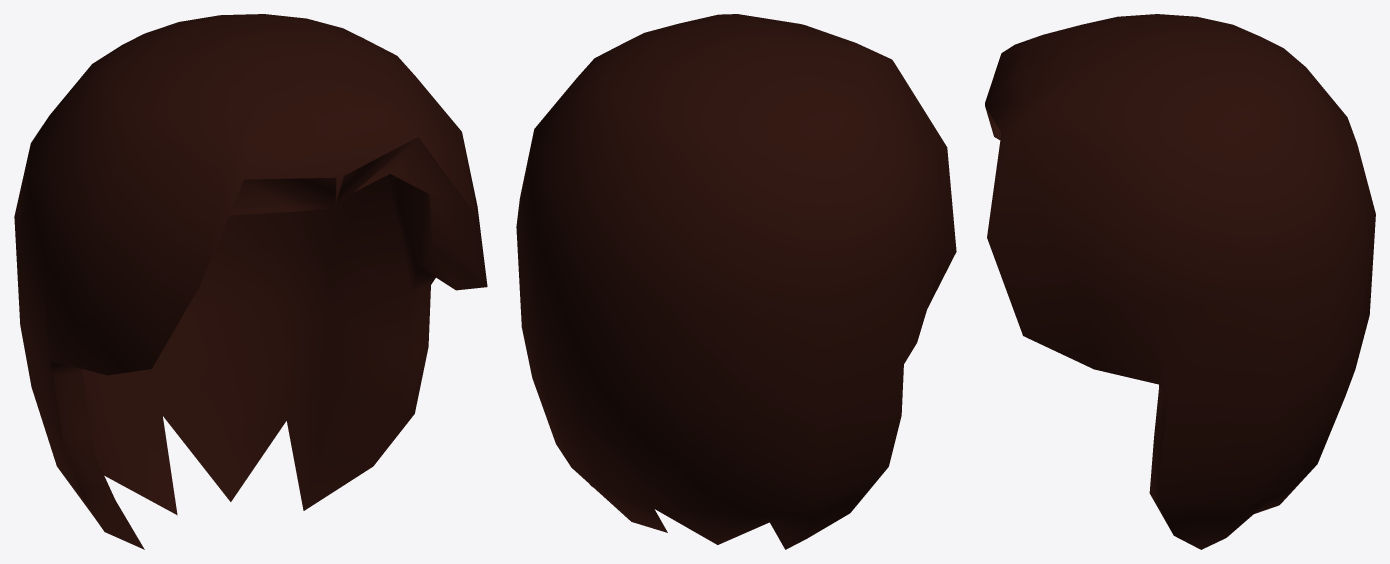
File: Hair07.FBX
3 renders of one model, left to right at view 1: azimuth 30°, elevation 25°; view 2: azimuth 150°, elevation 25°; view 3: azimuth 270°, elevation 25°, orthographic. The views are drawn at different scales.
Parts seen in each view (by area): view 1: Hair07; view 2: Hair07; view 3: Hair07.
Boxes of the visible parts, x1=… form: Hair07: x1=14, y1=14, x2=487, y2=549; Hair07: x1=516, y1=14, x2=956, y2=549; Hair07: x1=985, y1=14, x2=1375, y2=549.
Size of the model in its own units: 434 by 516 by 386.
